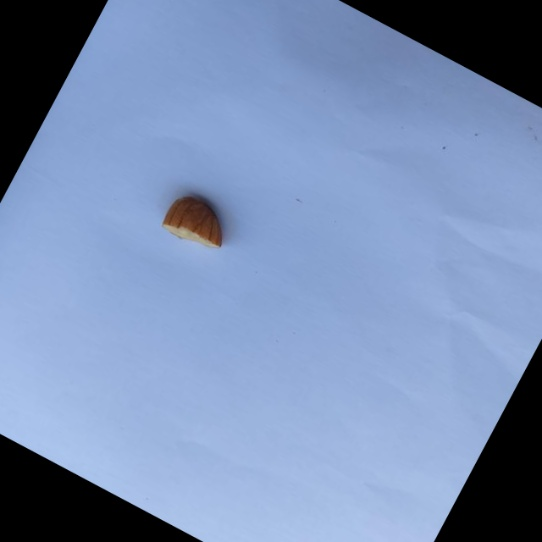grade4: (152, 181, 245, 264)
